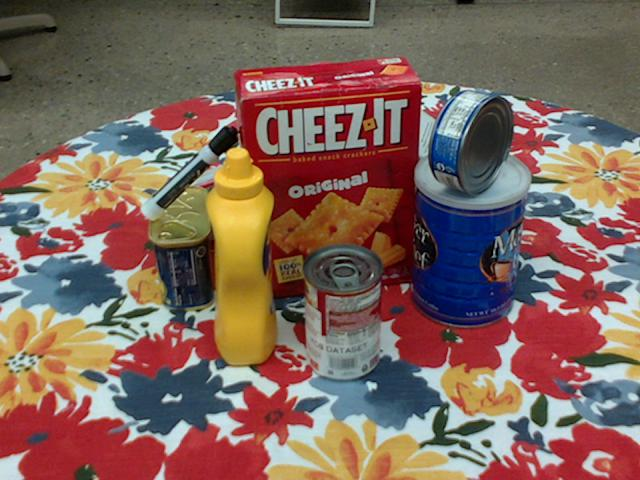cracker_box: (234, 57, 423, 298)
gelatin_box: (164, 161, 249, 252)
large_marker: (141, 125, 239, 220)
master_chef_can: (413, 147, 529, 330)
mug: (312, 122, 396, 220)
mustard_bottle: (206, 148, 276, 365)
potted_meat_can: (148, 186, 214, 311)
sugar_box: (362, 93, 522, 249)
tomato_soup_can: (301, 244, 382, 382)
tuna_fish_can: (431, 90, 514, 194)
